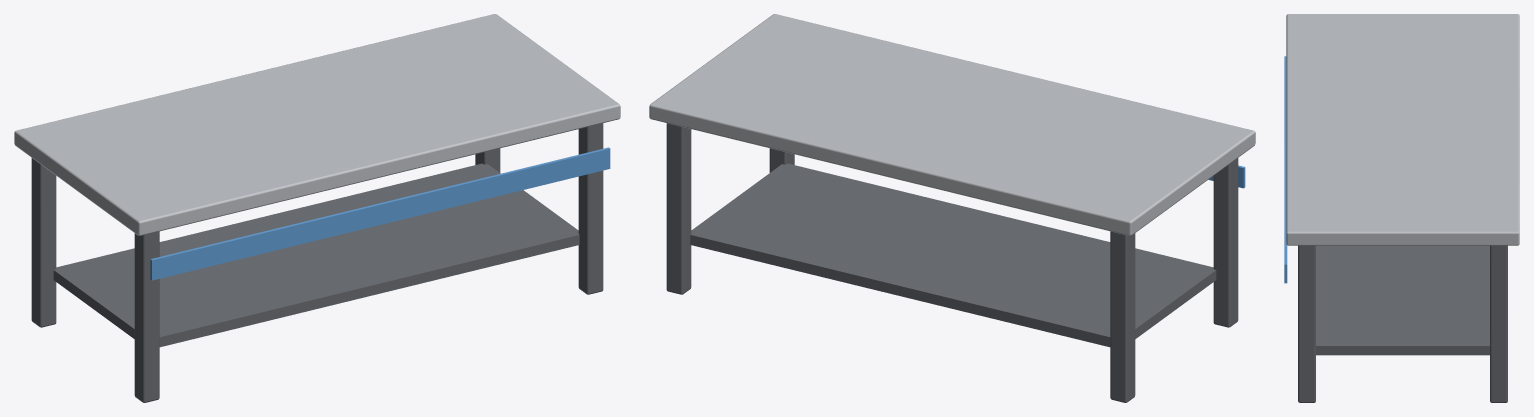
Rendered from mesa.glb.
The picture shows the model from 3 angles, left to right: view 1: azimuth 30°, elevation 25°; view 2: azimuth 150°, elevation 25°; view 3: azimuth 270°, elevation 25°; orthographic projection. The views are drawn at different scales.
Visible parts, largest first — view 1: display-table-long; view 2: display-table-long; view 3: display-table-long.
Boxes of the visible parts, box(x1,y1,x2,y2) form: display-table-long: box(14, 14, 620, 402); display-table-long: box(649, 14, 1255, 402); display-table-long: box(1284, 14, 1519, 402).
Bounding box in the file's own units: 2 × 0.75 × 0.908.
